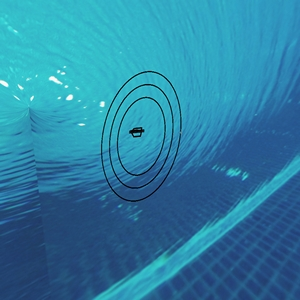circle: (95, 62, 193, 204)
